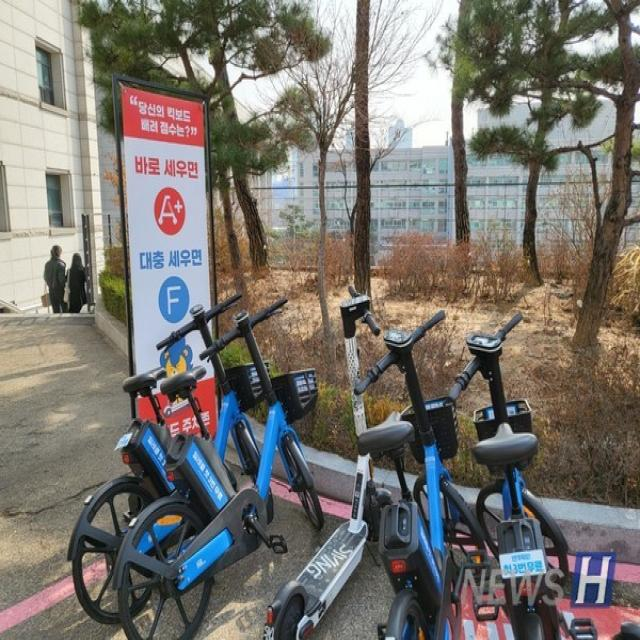ebike_ok: (135, 308, 299, 640), (469, 303, 564, 638), (378, 315, 455, 640)
kickboard_ok: (281, 519, 364, 638)
